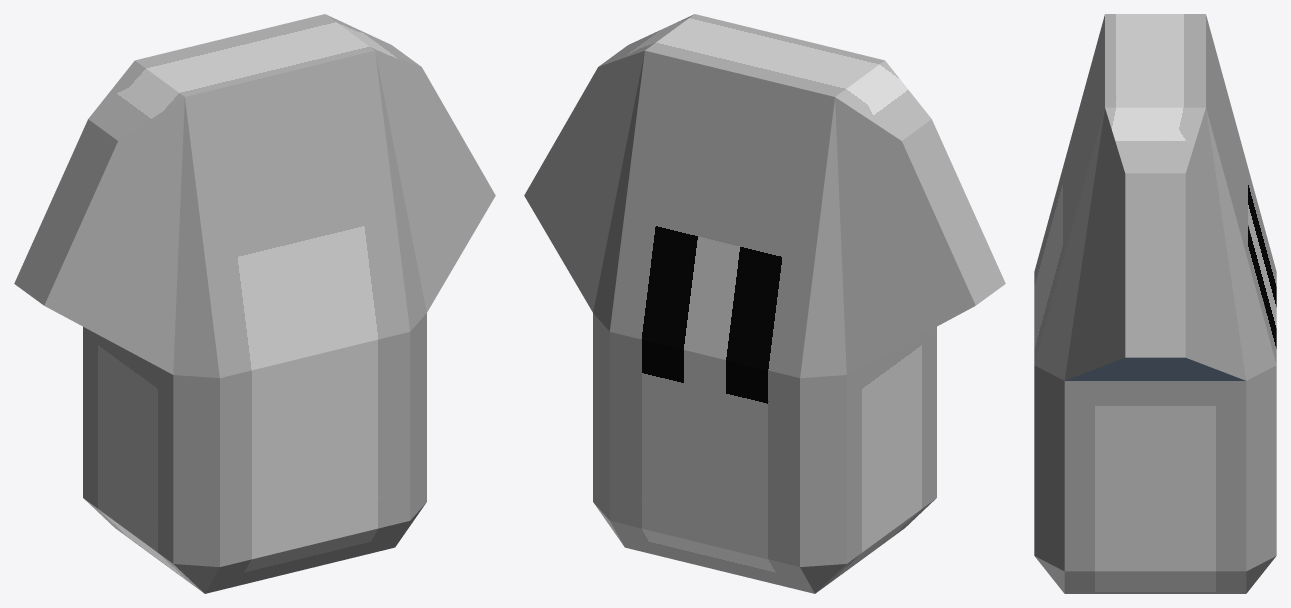
File: white_bishop.glb
3 views of the same model, side by side, from view 1: azimuth 30°, elevation 25°; view 2: azimuth 150°, elevation 25°; view 3: azimuth 270°, elevation 25° (orthographic).
Visible parts, largest first — view 1: beveled_cuboid; view 2: beveled_cuboid; view 3: beveled_cuboid.
Part boxes in pixels (bbox=[...]): beveled_cuboid: bbox=[14, 14, 495, 593]; beveled_cuboid: bbox=[524, 14, 1005, 593]; beveled_cuboid: bbox=[1034, 14, 1276, 593].
Bounding box in the file's own units: 0.5427 × 0.5538 × 0.25.
Materials: 1 (1 with a texture image).
